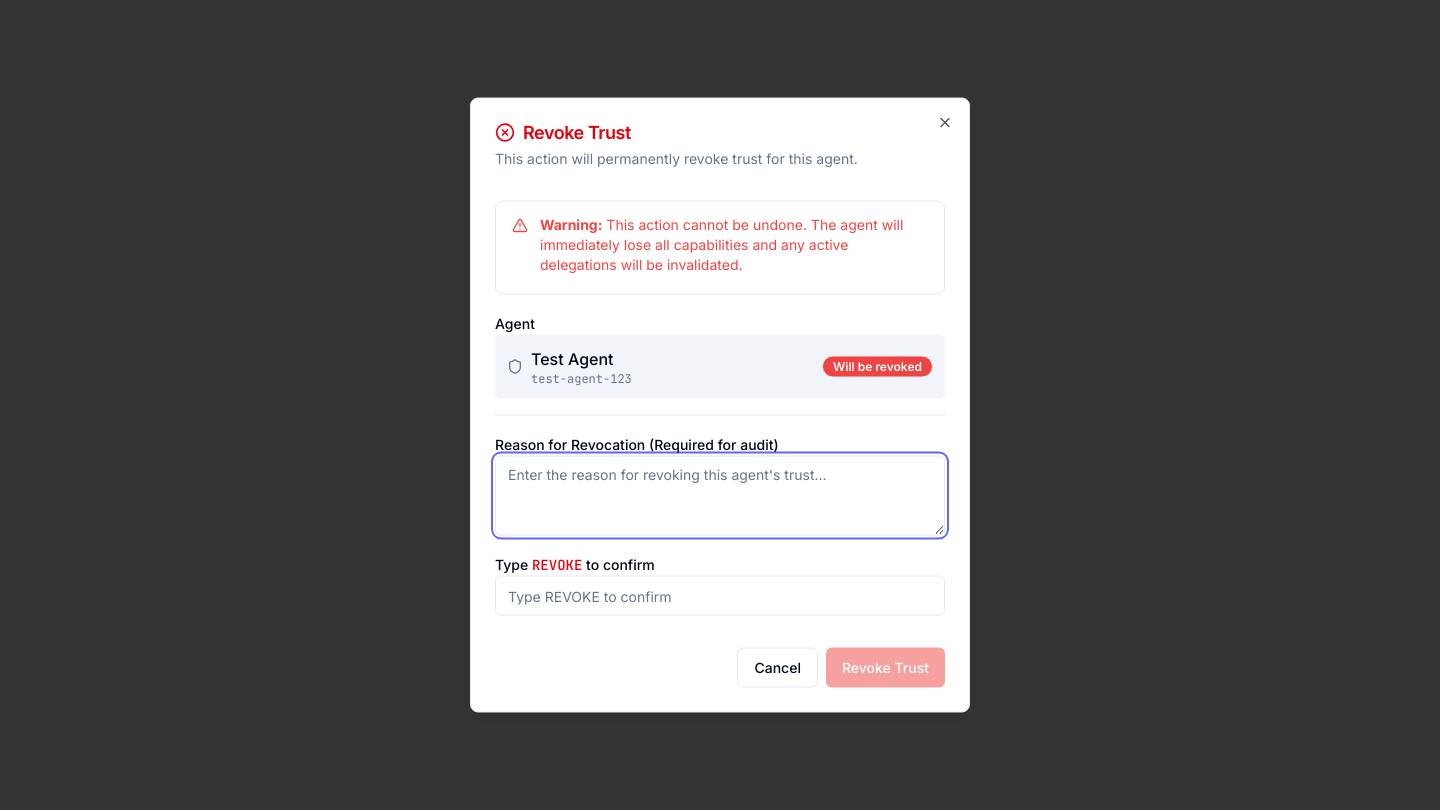
Test case: RevokeTrustDialog › requires confirmation text to enable revoke button
// Fill in reason
Type "Security violation detected" into the text box with placeholder "Enter the reason for revoking this agent's trust..." at (720,496), box [495,456,945,536]
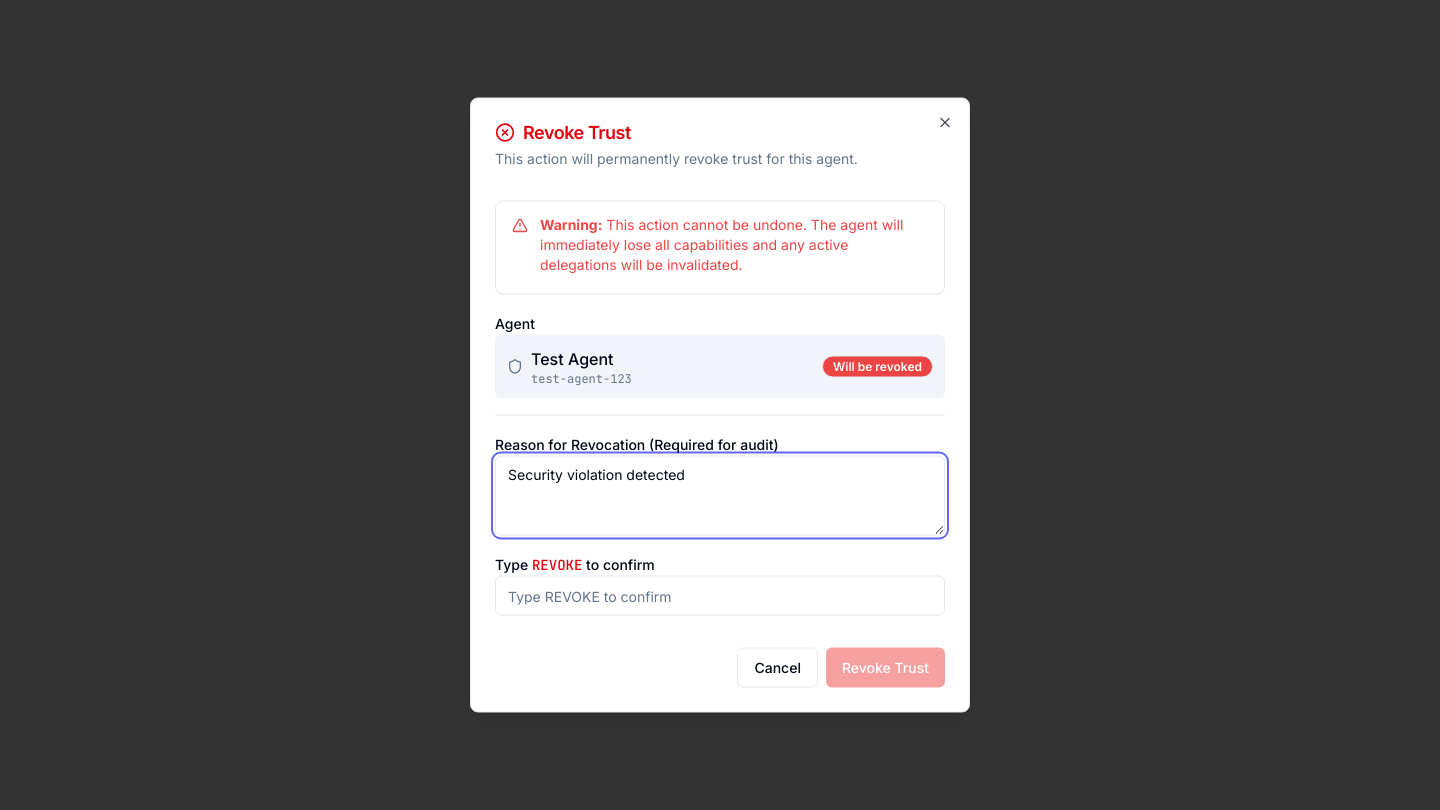
Check: the button "Revoke Trust" is disabled, box [826,648,945,688]
// Type confirmation
Type "REVOKE" into the field with placeholder "Type REVOKE to confirm" at (720,596), box [495,576,945,616]
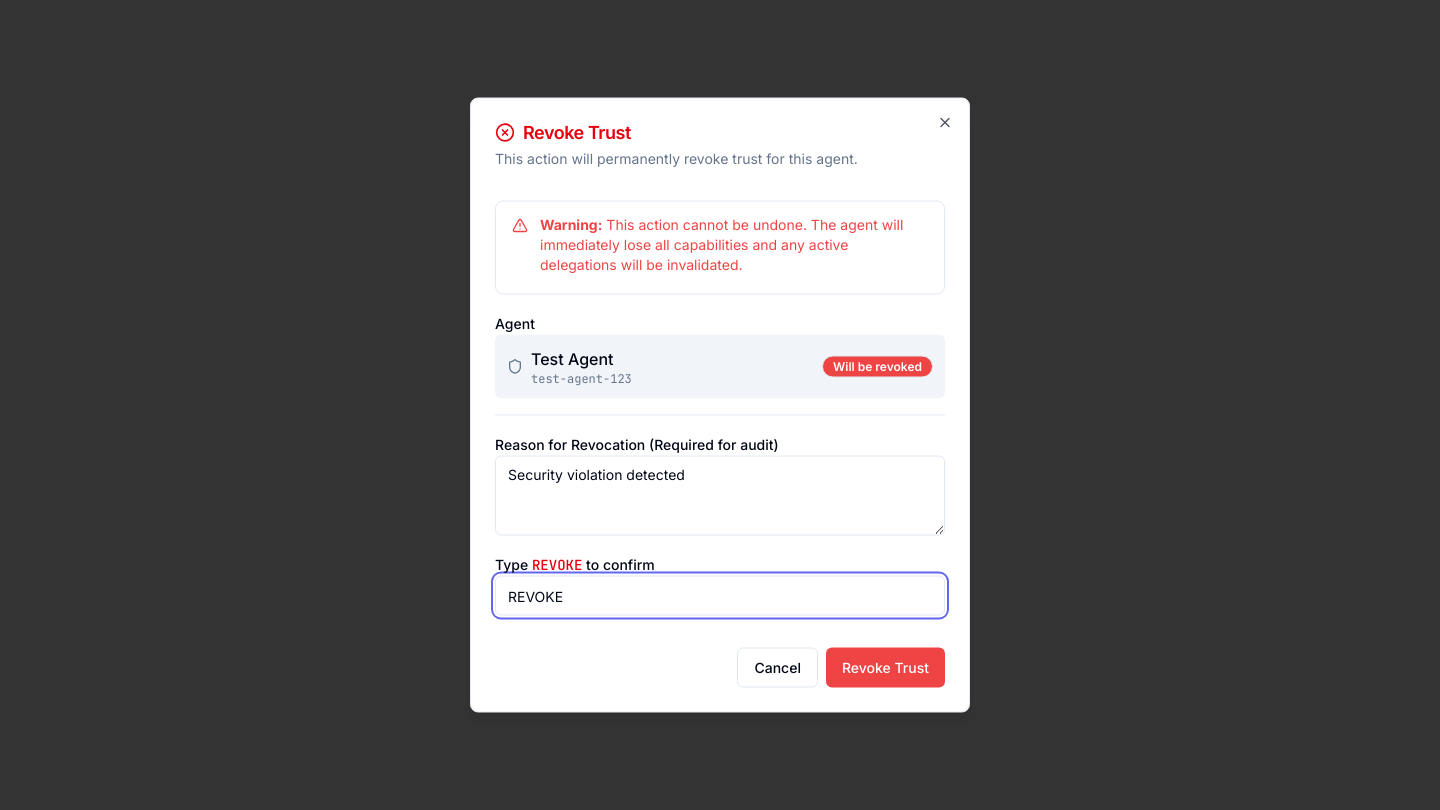
Check: the button "Revoke Trust" is enabled, box [826,648,945,688]
